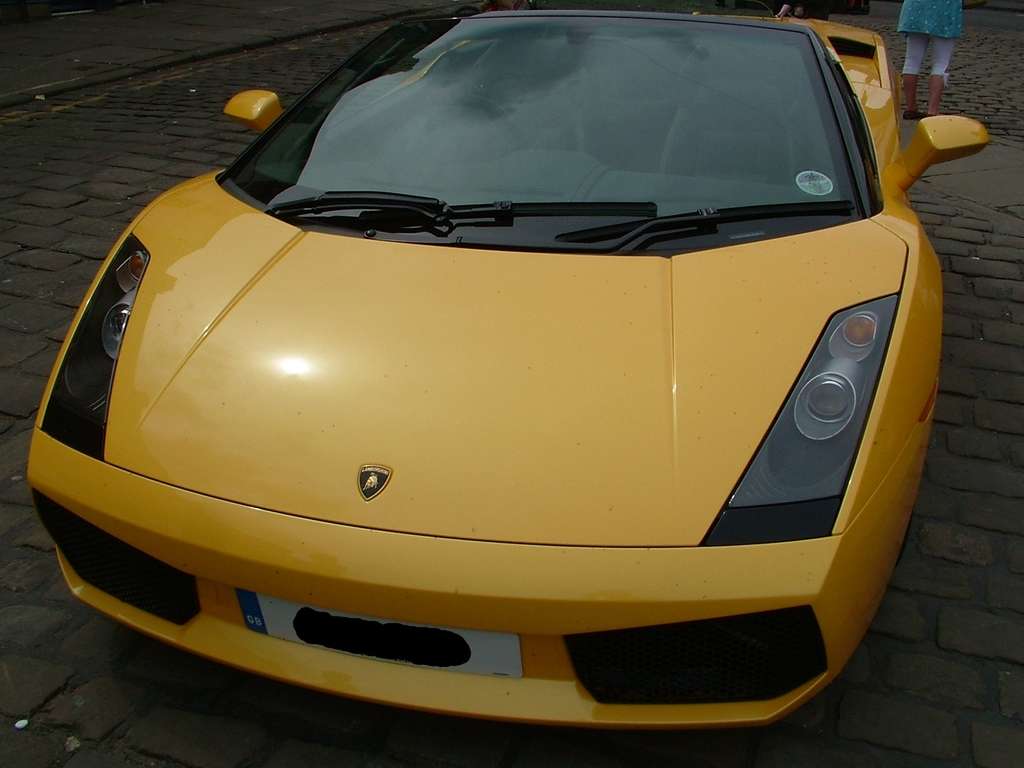person: (895, 0, 967, 122)
